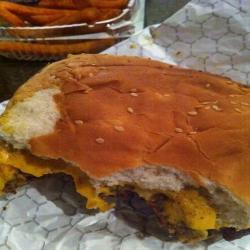burger: (9, 58, 250, 245)
hotdog: (1, 1, 134, 29)
